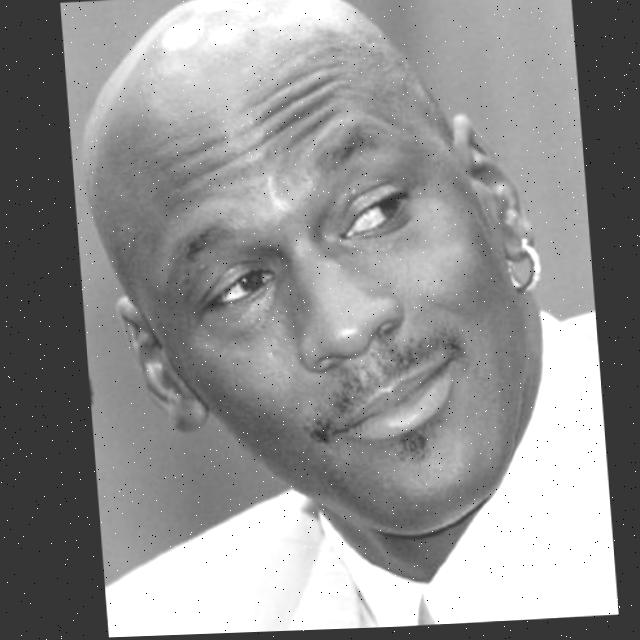face: (73, 0, 561, 546)
